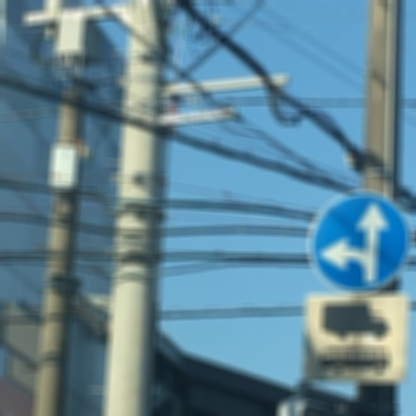Direction_sign: (291, 185, 416, 293)
